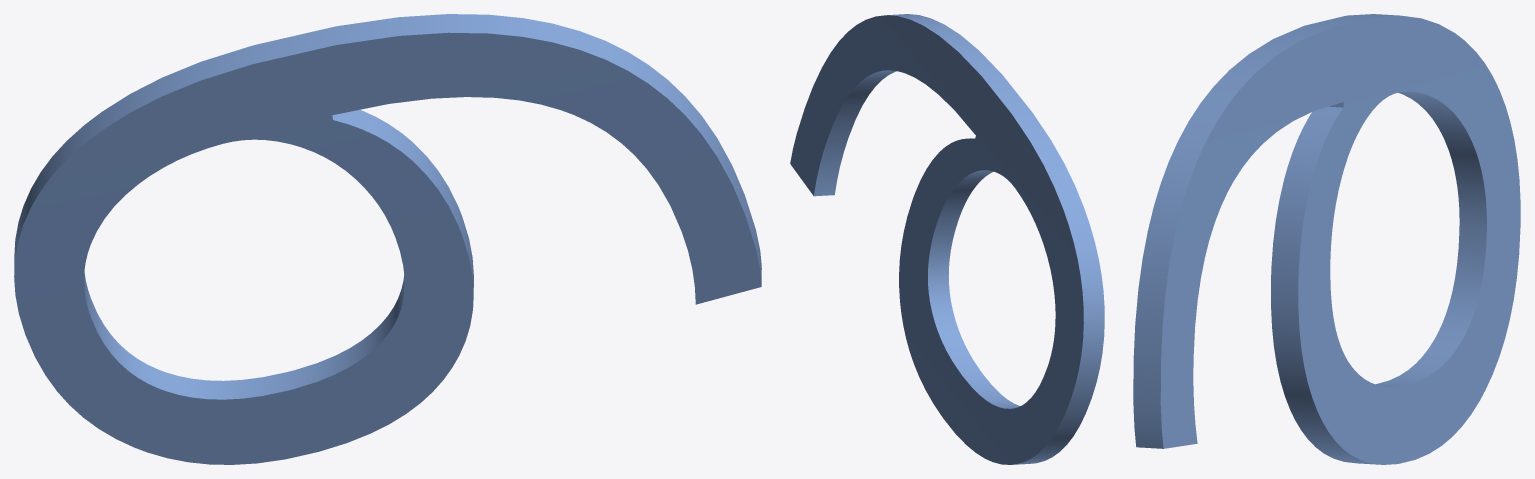
Rendered from New_Number_9.gltf.
The picture shows the model from 3 angles, left to right: view 1: azimuth 30°, elevation 25°; view 2: azimuth 150°, elevation 25°; view 3: azimuth 270°, elevation 25°; orthographic projection. The views are drawn at different scales.
Parts seen in each view (by area): view 1: Part 54; view 2: Part 54; view 3: Part 54.
Part boxes in pixels (box(x1,y1,x2,y2)): Part 54: box(14, 14, 761, 464); Part 54: box(790, 14, 1104, 464); Part 54: box(1133, 14, 1520, 464).
Size of the model in its own units: 0.00523 by 0.004 by 0.00306.
